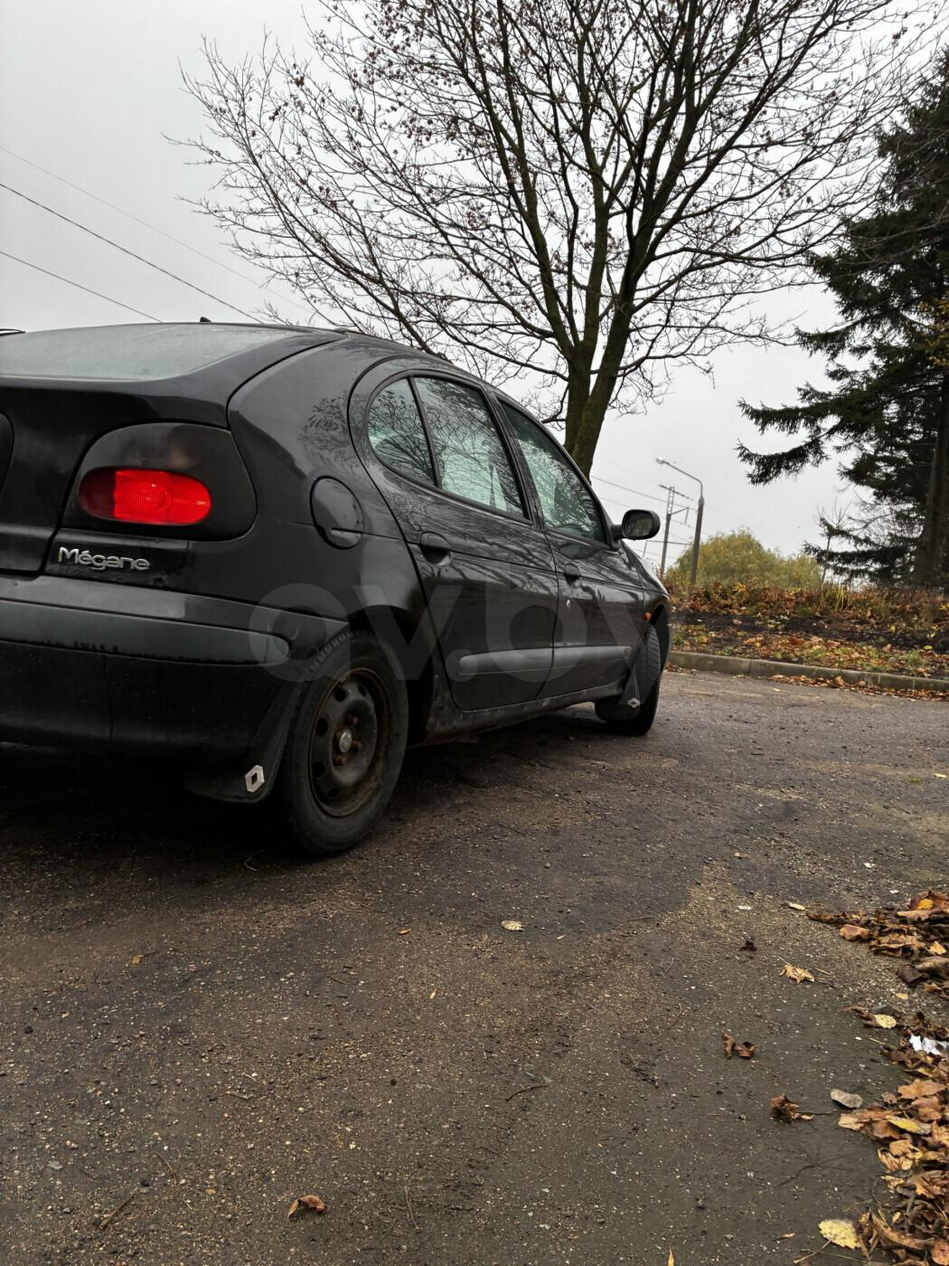Megane_1995-1999: (0, 298, 694, 875)
